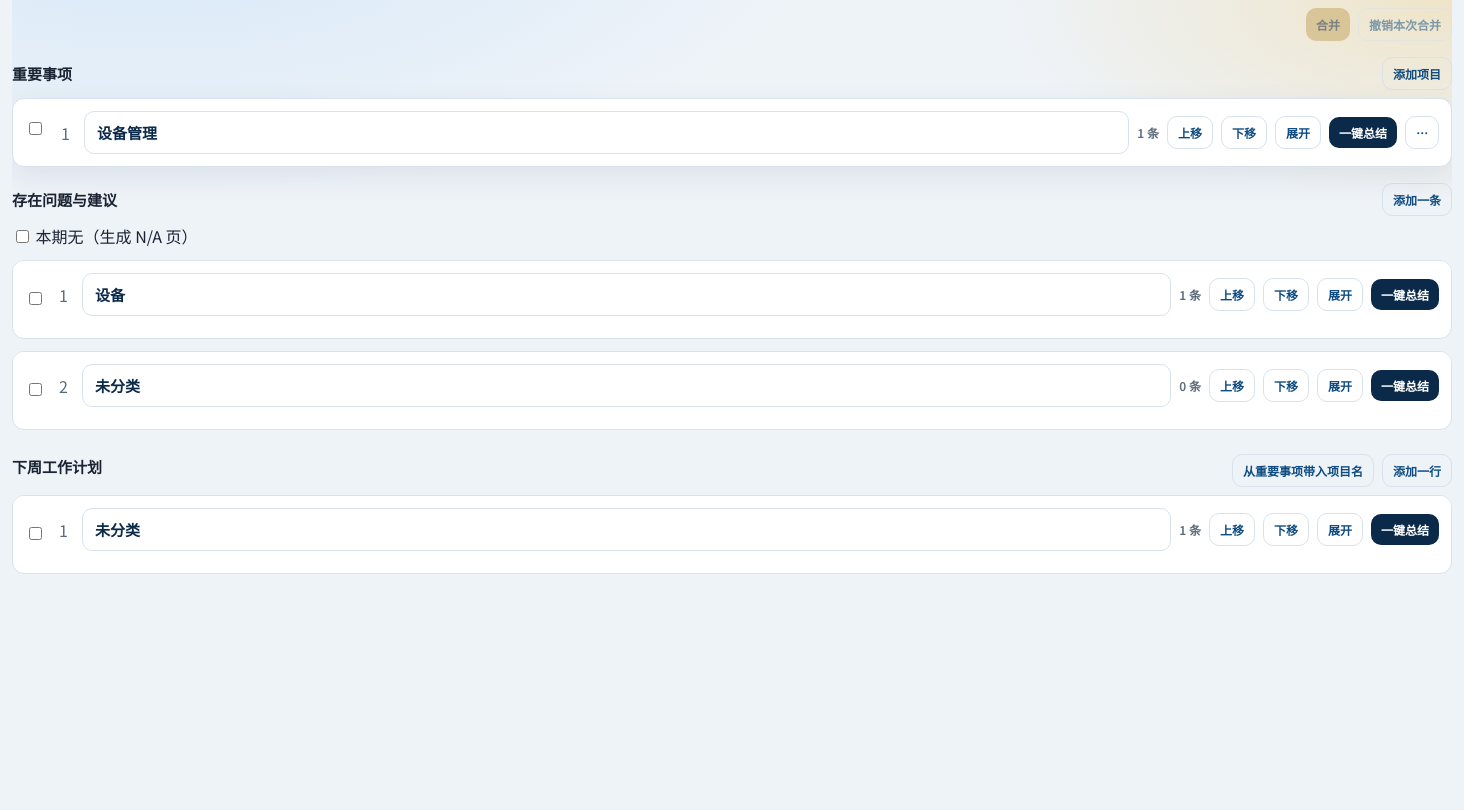
issue and next-week title editors stay gone › keeps a stored title on old rows but does not render a 标题 field
Step 1. Click the 2nd button "展开" → click(1340, 294), box [1317,278,1363,311]
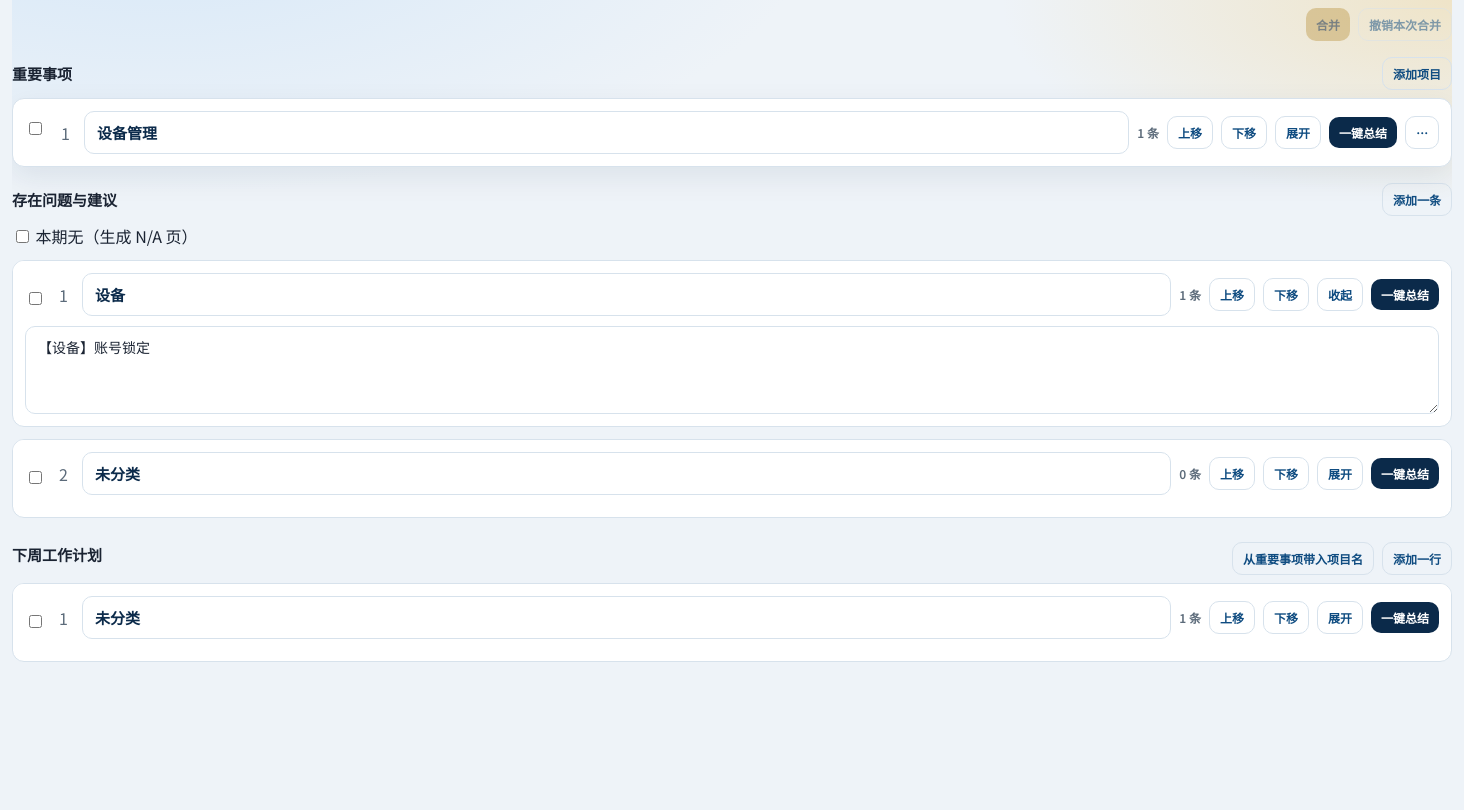
Step 2. Click the button with aria-label "展开问题分组 未分类" → click(1340, 474), box [1317,457,1363,490]
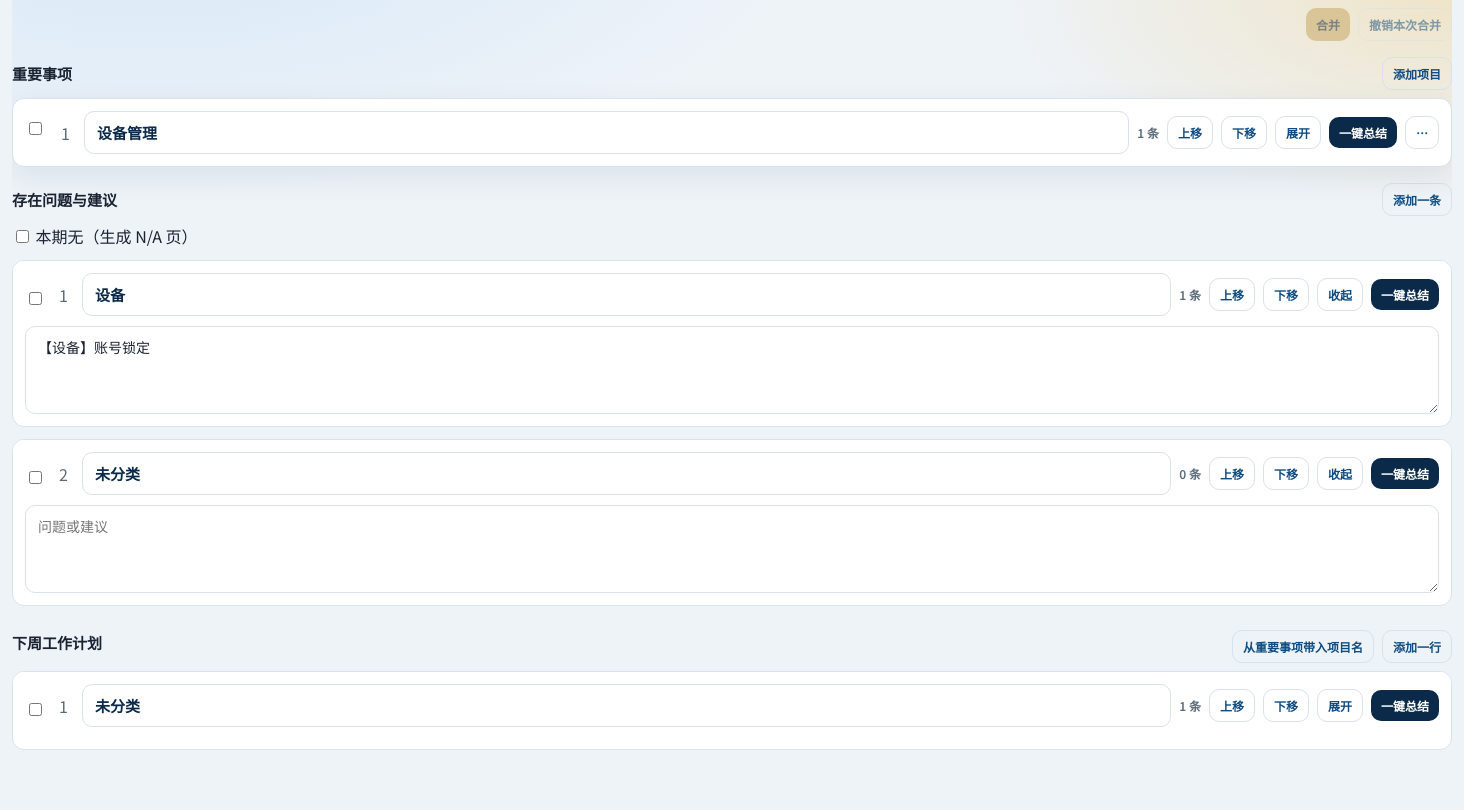
Now the text box named "问题内容 1" holds "【设备】账号锁定", box [25,326,1439,414]
Now the text box named "问题内容 2" is shown, box [25,505,1439,593]
